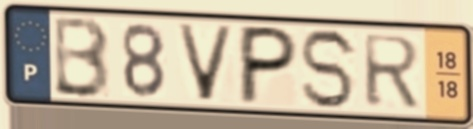8: (119, 20, 169, 101)
B: (51, 14, 114, 102)
P: (235, 22, 302, 107)
R: (360, 32, 425, 110)
S: (298, 26, 361, 112)
V: (173, 21, 238, 104)
